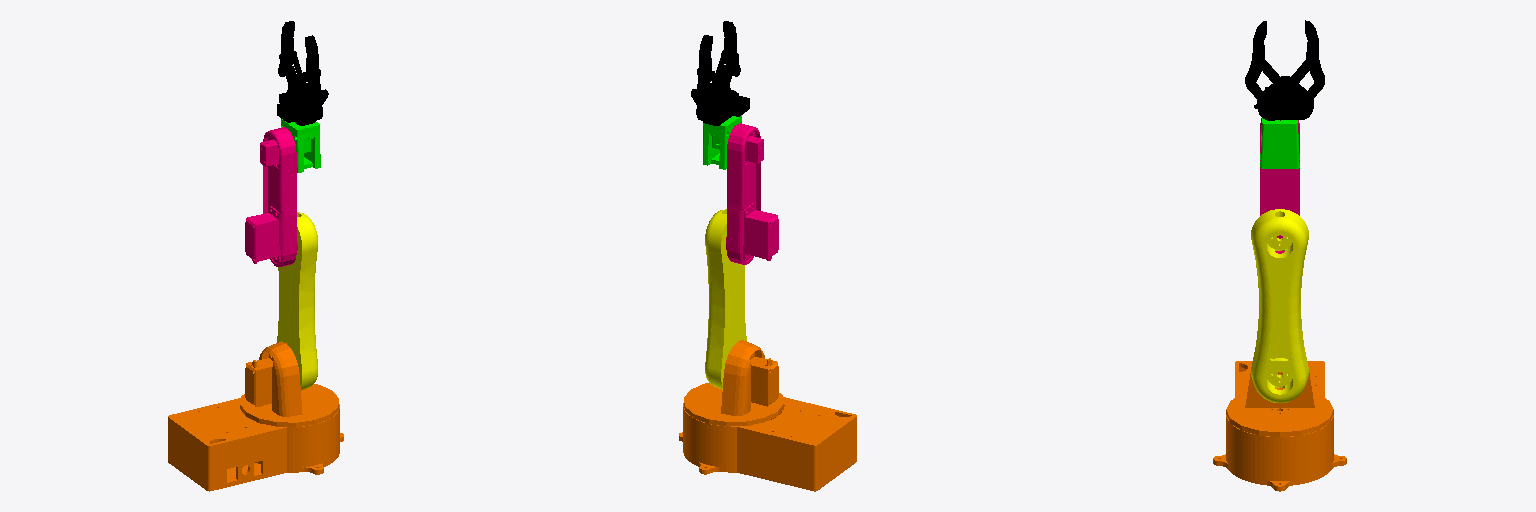
The robot description file, URDF, robot "robot-arm":
<?xml version="1.0" ?>
<robot name="robot-arm">
  
  <link name="Base">
    <visual name="Base_visual">
      <origin xyz="0 0 0" rpy="0 0 0"/>
      <geometry>
        <mesh filename="meshes/Base.stl"/>
      </geometry>
      <material name="Base-material">
        <color rgba="1 0.5 0 1"/>
      </material>
    </visual>
    <collision name="Base_collision">
      <origin xyz="0 0 0" rpy="0 0 0"/>
      <geometry>
        <mesh filename="meshes/Base.stl"/>
      </geometry>
    </collision>
    <inertial>
      <mass value="0.22579514"/>
      <inertia ixx="0.0002840554" iyy="0.00067185635" izz="0.00082391455" ixy="3.756062e-06" ixz="4.8717476e-06" iyz="4.1491839e-07"/>
      <origin xyz="-0.041913942 0.00047418564 0.023219926" rpy="0 0 0"/>
    </inertial>
  </link>
  <link name="Link_1">
    <visual name="Link_1_visual">
      <origin xyz="0 0 0" rpy="0 0 0"/>
      <geometry>
        <mesh filename="meshes/Link_1.stl"/>
      </geometry>
      <material name="Link_1-material">
        <color rgba="1 0.5 0 1"/>
      </material>
    </visual>
    <collision name="Link_1_collision">
      <origin xyz="0 0 0" rpy="0 0 0"/>
      <geometry>
        <mesh filename="meshes/Link_1.stl"/>
      </geometry>
    </collision>
    <inertial>
      <mass value="0.1676629"/>
      <inertia ixx="0.00012301676" iyy="0.00011376972" izz="0.00011253315" ixy="2.597404e-11" ixz="-1.6580186e-12" iyz="-1.8085889e-05"/>
      <origin xyz="-6.7148366e-09 0.013086455 0.024697496" rpy="0 0 0"/>
    </inertial>
  </link>
  <link name="Link_2">
    <visual name="Link_2_visual">
      <origin xyz="0 0 0" rpy="0 0 0"/>
      <geometry>
        <mesh filename="meshes/Link_2.stl"/>
      </geometry>
      <material name="Link_2-material">
        <color rgba="1 1 0 1"/>
      </material>
    </visual>
    <collision name="Link_2_collision">
      <origin xyz="0 0 0" rpy="0 0 0"/>
      <geometry>
        <mesh filename="meshes/Link_2.stl"/>
      </geometry>
    </collision>
    <inertial>
      <mass value="0.16402824"/>
      <inertia ixx="3.6764159e-05" iyy="0.00047216039" izz="0.00049435452" ixy="-2.1050301e-11" ixz="1.2372685e-10" iyz="2.2105373e-11"/>
      <origin xyz="0.069999939 -3.7796082e-08 -0.010449721" rpy="0 0 0"/>
    </inertial>
  </link>
  <link name="Link_3">
    <visual name="Link_3_visual">
      <origin xyz="0 0 0" rpy="0 0 0"/>
      <geometry>
        <mesh filename="meshes/Link_3.stl"/>
      </geometry>
      <material name="Link_3-material">
        <color rgba="1 0 0.5 1"/>
      </material>
    </visual>
    <collision name="Link_3_collision">
      <origin xyz="0 0 0" rpy="0 0 0"/>
      <geometry>
        <mesh filename="meshes/Link_3.stl"/>
      </geometry>
    </collision>
    <inertial>
      <mass value="0.14621308"/>
      <inertia ixx="3.4457565e-05" iyy="0.00025909398" izz="0.00025063291" ixy="-9.2393348e-11" ixz="1.5915992e-05" iyz="-3.6605326e-11"/>
      <origin xyz="0.037648116 2.13735e-08 0.014993859" rpy="0 0 0"/>
    </inertial>
  </link>
  <link name="Link_4">
    <visual name="Link_4_visual">
      <origin xyz="0 0 0" rpy="0 0 0"/>
      <geometry>
        <mesh filename="meshes/Link_4.stl"/>
      </geometry>
      <material name="Link_4-material">
        <color rgba="0 1 0 1"/>
      </material>
    </visual>
    <collision name="Link_4_collision">
      <origin xyz="0 0 0" rpy="0 0 0"/>
      <geometry>
        <mesh filename="meshes/Link_4.stl"/>
      </geometry>
    </collision>
    <inertial>
      <mass value="0.042804316"/>
      <inertia ixx="6.7480551e-06" iyy="1.0763083e-05" izz="1.154155e-05" ixy="-2.5718329e-08" ixz="-2.5823274e-08" iyz="1.4883063e-09"/>
      <origin xyz="4.7393257e-05 -2.0656562e-05 -0.012253257" rpy="0 0 0"/>
    </inertial>
  </link>
  <link name="End_Effector">
    <visual name="End_Effector_visual">
      <origin xyz="0 0 0" rpy="0 0 0"/>
      <geometry>
        <mesh filename="meshes/End_Effector.stl"/>
      </geometry>
      <material name="End_Effector-material">
        <color rgba="0 0 0 1"/>
      </material>
    </visual>
    <collision name="End_Effector_collision">
      <origin xyz="0 0 0" rpy="0 0 0"/>
      <geometry>
        <mesh filename="meshes/End_Effector.stl"/>
      </geometry>
    </collision>
    <inertial>
      <mass value="0.052276675"/>
      <inertia ixx="3.4675475e-05" iyy="4.9430077e-05" izz="2.1041401e-05" ixy="8.9031668e-07" ixz="-1.325108e-06" iyz="1.7164732e-06"/>
      <origin xyz="-0.0012587778 -0.0012464139 0.02979157" rpy="0 0 0"/>
    </inertial>
  </link>
  <joint name="joint" type="revolute">
    <origin xyz="0 0 0.05" rpy="0 0 1.5707963"/>
    <parent link="Base"/>
    <child link="Link_1"/>
    <axis xyz="0 0 1"/>
    <limit effort="1" velocity="1" lower="-1.57079611" upper="1.57079611"/>
  </joint>
  <joint name="joint-1" type="revolute">
    <origin xyz="-3.2706323e-09 0.00099697 0.043550108" rpy="-1.5707963 -1.5707963 0"/>
    <parent link="Link_1"/>
    <child link="Link_2"/>
    <axis xyz="0 0 1"/>
    <limit effort="1" velocity="1" lower="-1.57079633" upper="1.57079633"/>
  </joint>
  <joint name="joint-2" type="revolute">
    <origin xyz="0.14 0 0" rpy="0 0 0"/>
    <parent link="Link_2"/>
    <child link="Link_3"/>
    <axis xyz="0 0 1"/>
    <limit effort="1" velocity="1" lower="-0.78539816" upper="2.35619449"/>
  </joint>
  <joint name="joint-3" type="revolute">
    <origin xyz="0.10575011 -3.2706325e-09 -0.0015" rpy="5.8286709e-15 -2.220446e-16 -1.2799832e-24"/>
    <parent link="Link_3"/>
    <child link="Link_4"/>
    <axis xyz="0 0 1"/>
    <limit effort="1" velocity="1" lower="-0.78539816" upper="2.35619449"/>
  </joint>
  <joint name="joint-4" type="revolute">
    <origin xyz="0.02345 0.0051499978 -0.012" rpy="1.5707963 -1.8429702e-14 1.5707963"/>
    <parent link="Link_4"/>
    <child link="End_Effector"/>
    <axis xyz="0 0 1"/>
    <limit effort="1" velocity="1" lower="-1.57079633" upper="1.57079633"/>
  </joint>
</robot>

--- What the picture shows (computed from the rendered views, not written in the file) ---
The picture shows the robot from 3 angles, left to right: view 1: azimuth 30°, elevation 25°; view 2: azimuth 150°, elevation 25°; view 3: azimuth 270°, elevation 25°; orthographic projection.
Model robot-arm with 6 links and 5 joints (5 revolute), rooted at Base, posed all joints at 0.
Visible links, largest first — view 1: Base, Link_1, Link_3, Link_2, End_Effector, Link_4; view 2: Base, Link_1, Link_3, Link_2, End_Effector, Link_4; view 3: Link_2, Base, End_Effector, Link_1, Link_4, Link_3.
Link boxes in pixels (left/top/right/bottom): Base: left=168, top=398, right=343, bottom=491; Link_1: left=240, top=341, right=338, bottom=426; Link_3: left=245, top=127, right=297, bottom=266; Link_2: left=277, top=212, right=317, bottom=390; End_Effector: left=277, top=21, right=328, bottom=125; Link_4: left=281, top=119, right=320, bottom=172; Base: left=679, top=397, right=856, bottom=491; Link_1: left=684, top=340, right=783, bottom=426; Link_3: left=726, top=123, right=778, bottom=264; Link_2: left=705, top=209, right=746, bottom=389; End_Effector: left=691, top=21, right=749, bottom=125; Link_4: left=703, top=115, right=741, bottom=169; Link_2: left=1251, top=209, right=1308, bottom=402; Base: left=1213, top=361, right=1346, bottom=491; End_Effector: left=1245, top=20, right=1324, bottom=120; Link_1: left=1226, top=372, right=1333, bottom=436; Link_4: left=1260, top=118, right=1299, bottom=168; Link_3: left=1260, top=118, right=1299, bottom=253.
Bounding box of the posed robot: 0.18 × 0.124 × 0.4595 m (x, y, z).
Meshes: 6 distinct files referenced, 6 mesh visuals loaded (6 binary STL).
